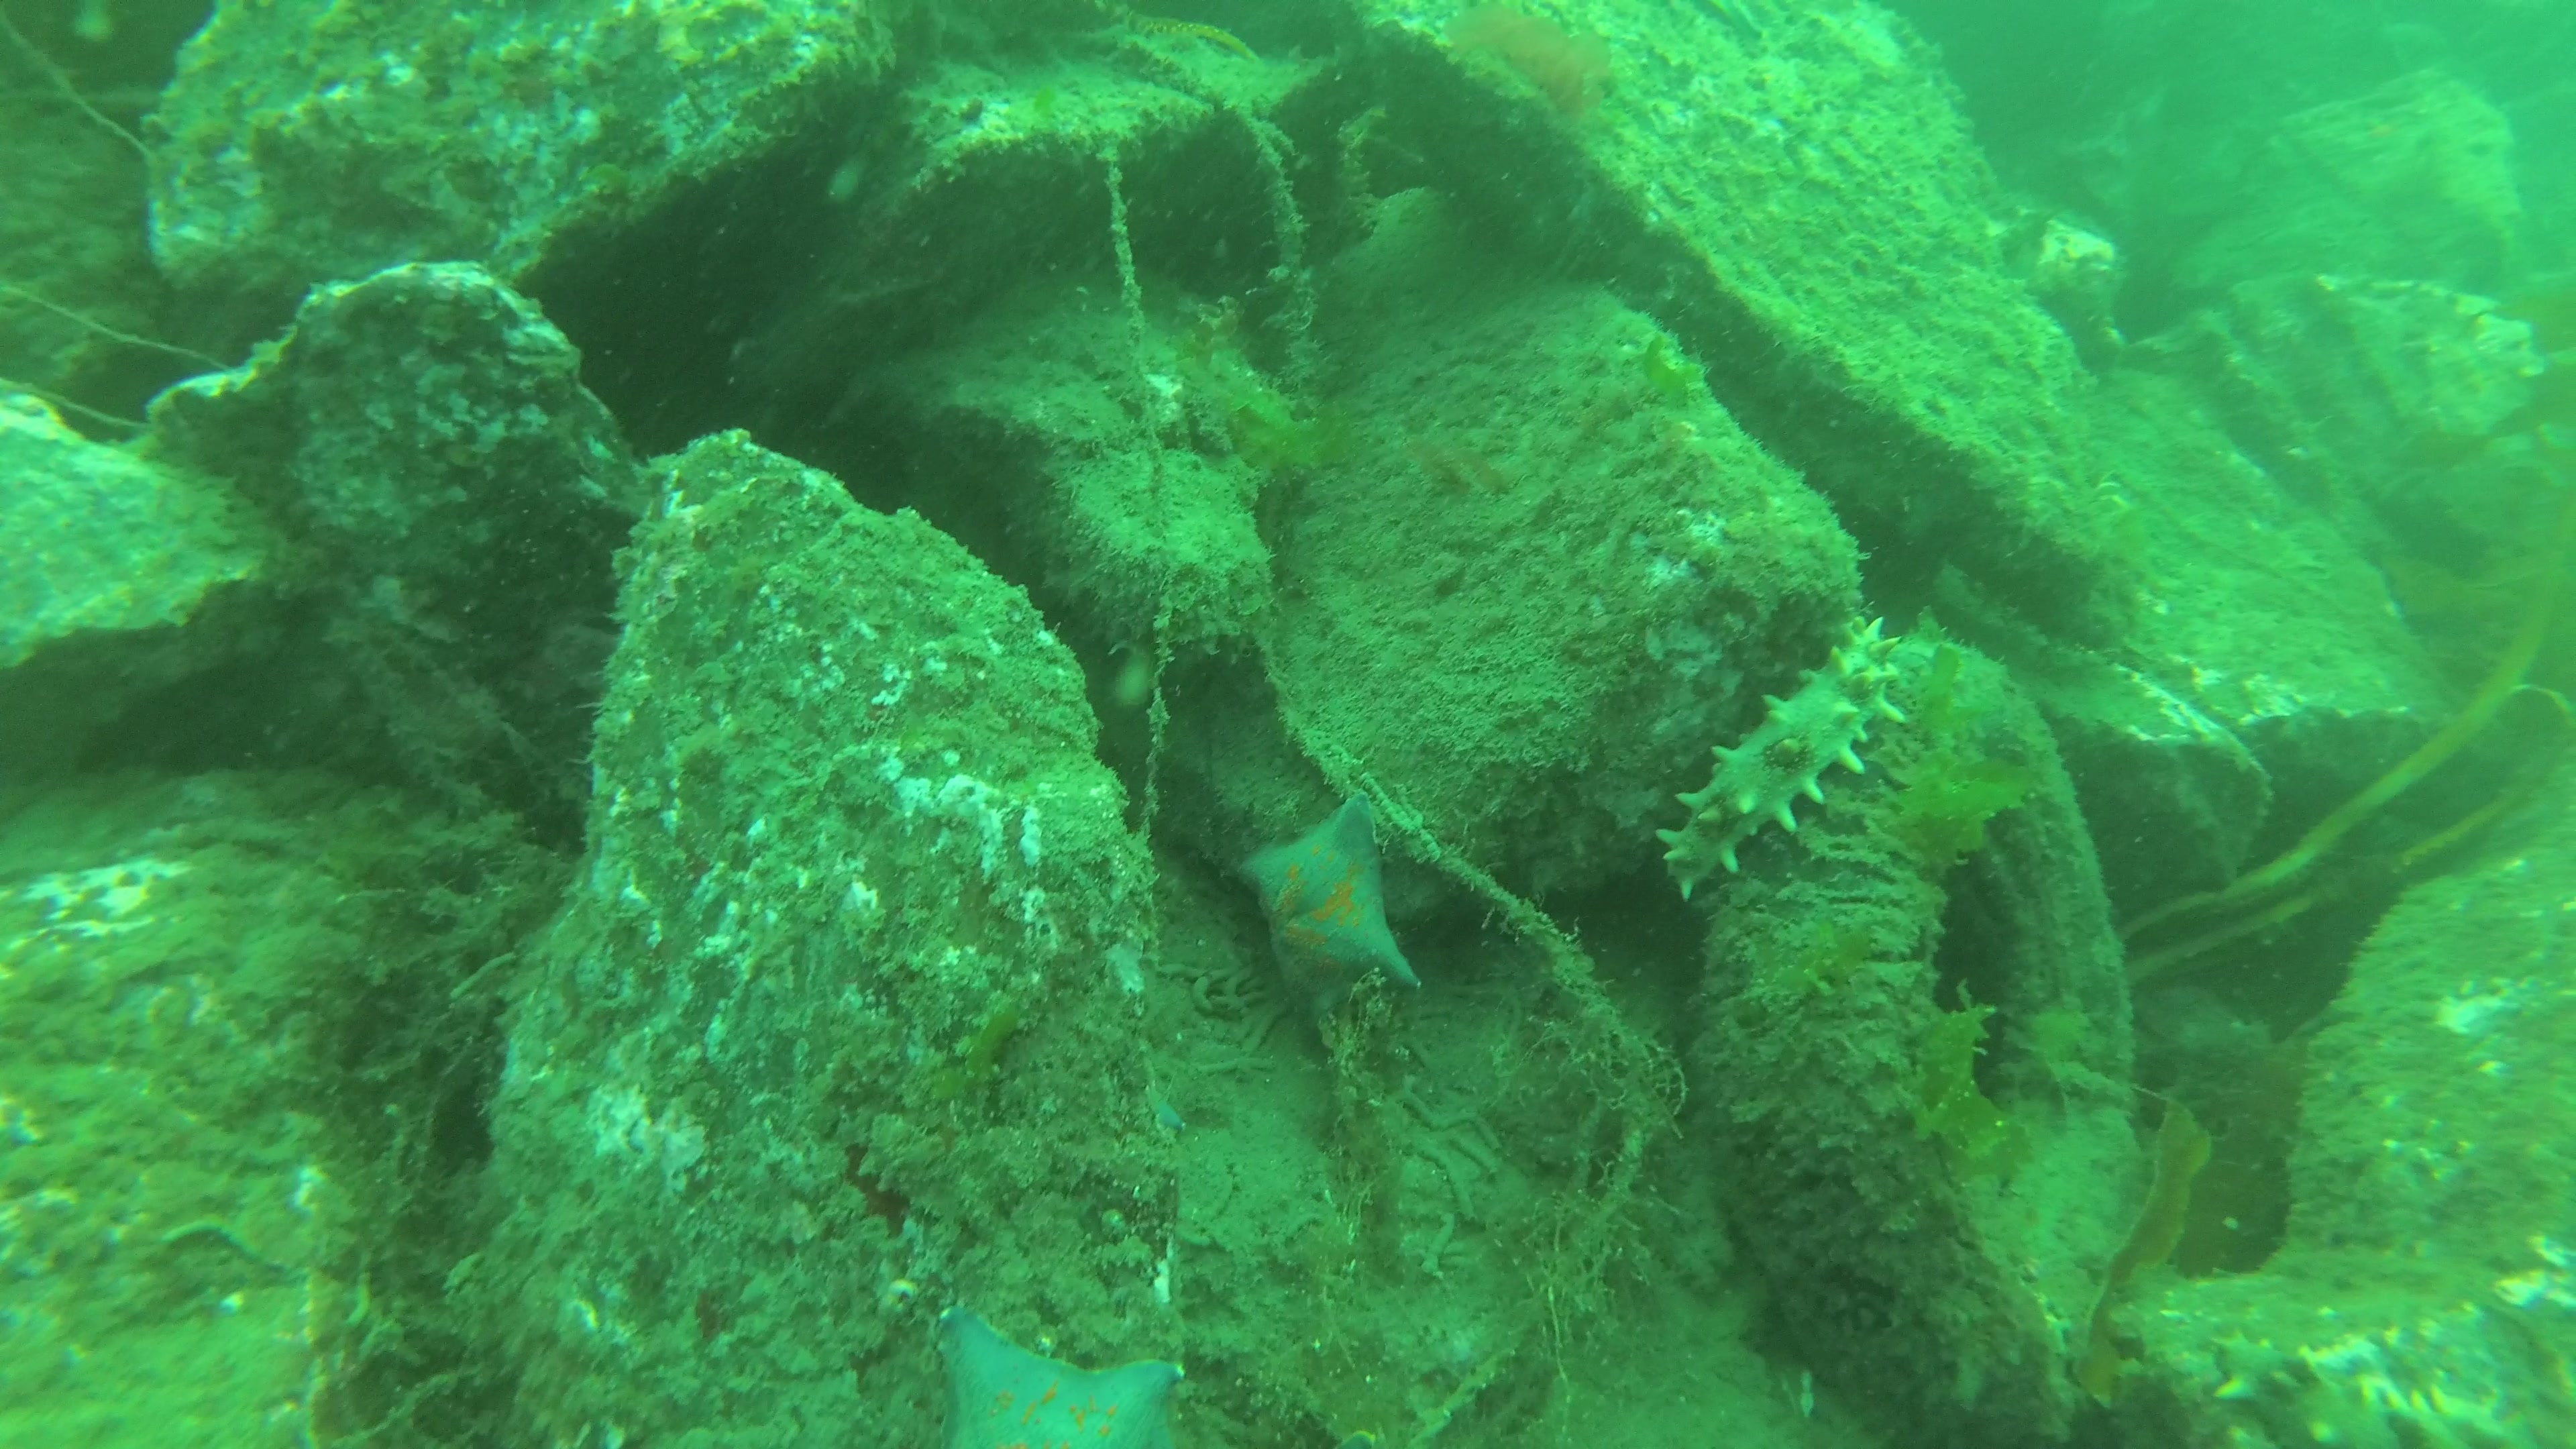holothurian: (1654, 612, 1913, 902), (2212, 1330, 2525, 1449)
starfish: (1244, 791, 1422, 1007), (929, 1307, 1189, 1449)
